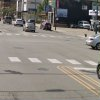crosswalk: (9, 56, 97, 65)
